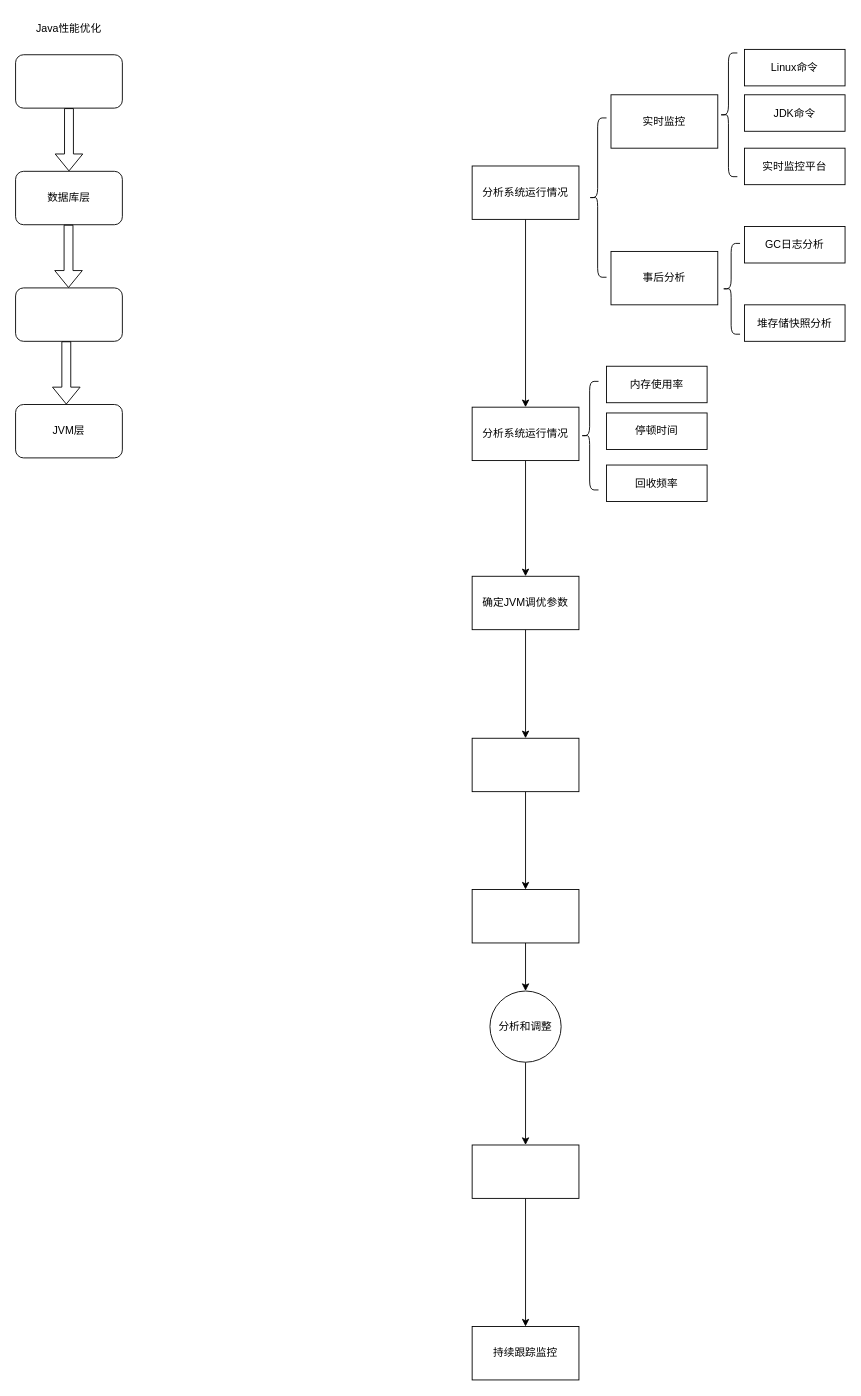
The diagram is 861 pixels wide and 1396 high, and some of its shapes have lost their labels. Here are the shapes that lost their labels. From the top down, the box of each, then its label:
(15, 54, 122, 108): 应用层
(15, 287, 122, 341): 框架层
(471, 737, 579, 792): 确定调优指标
(471, 889, 579, 943): 对比前后差异
(471, 1144, 579, 1198): 找到合适参数
